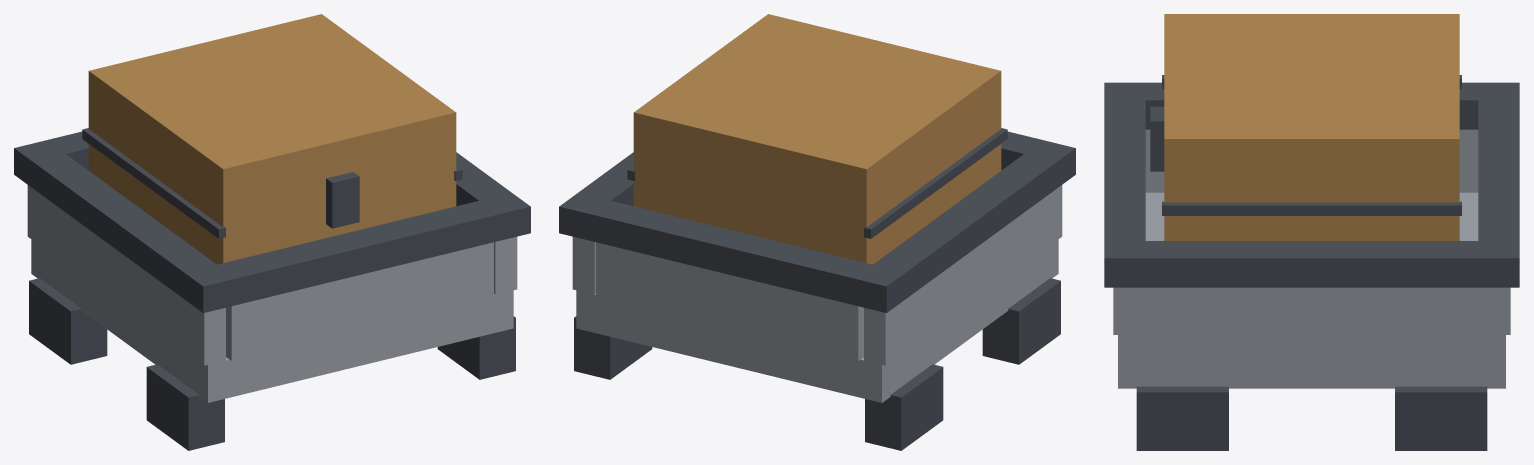
The model's file is chest-minecart.glb.
The picture shows the model from 3 angles, left to right: view 1: azimuth 30°, elevation 25°; view 2: azimuth 150°, elevation 25°; view 3: azimuth 270°, elevation 25°; orthographic projection. The views are drawn at different scales.
Visible parts, largest first — view 1: chest-minecart; view 2: chest-minecart; view 3: chest-minecart.
Part boxes in pixels (<box>): chest-minecart: <box>14,14,530,450</box>; chest-minecart: <box>559,14,1075,450</box>; chest-minecart: <box>1104,14,1519,450</box>.
Bounding box in the file's own units: 0.9 × 0.685 × 0.9.
